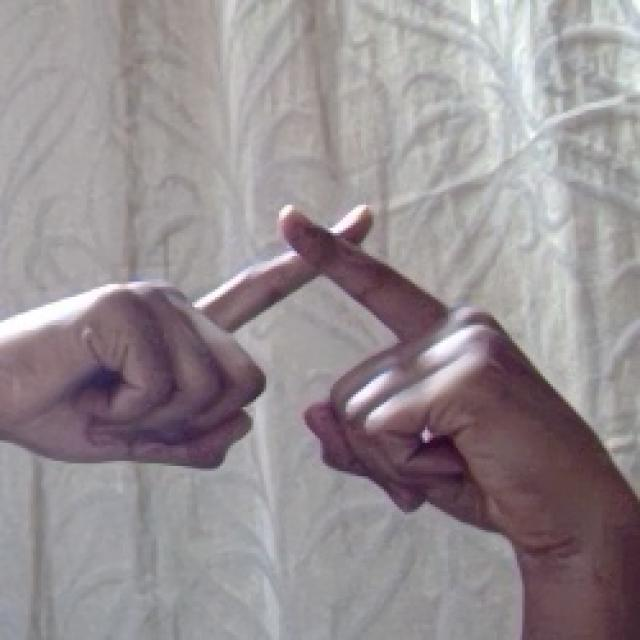Alphabet-X: (12, 195, 578, 521)
